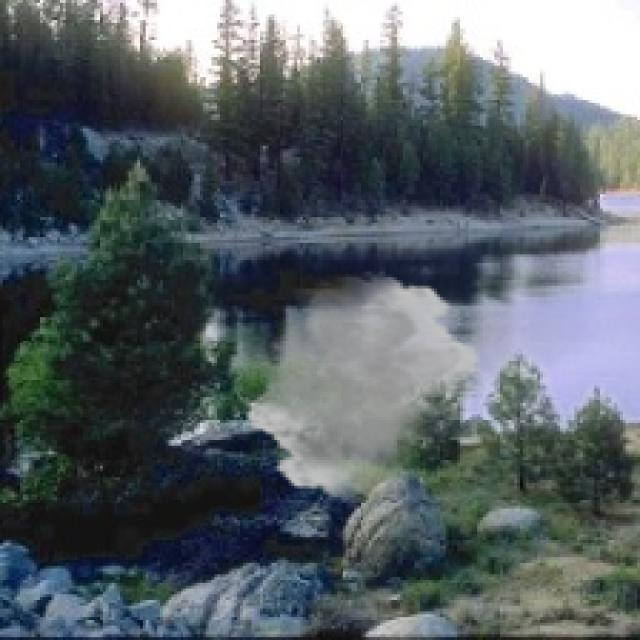smoke: (243, 271, 483, 503)
